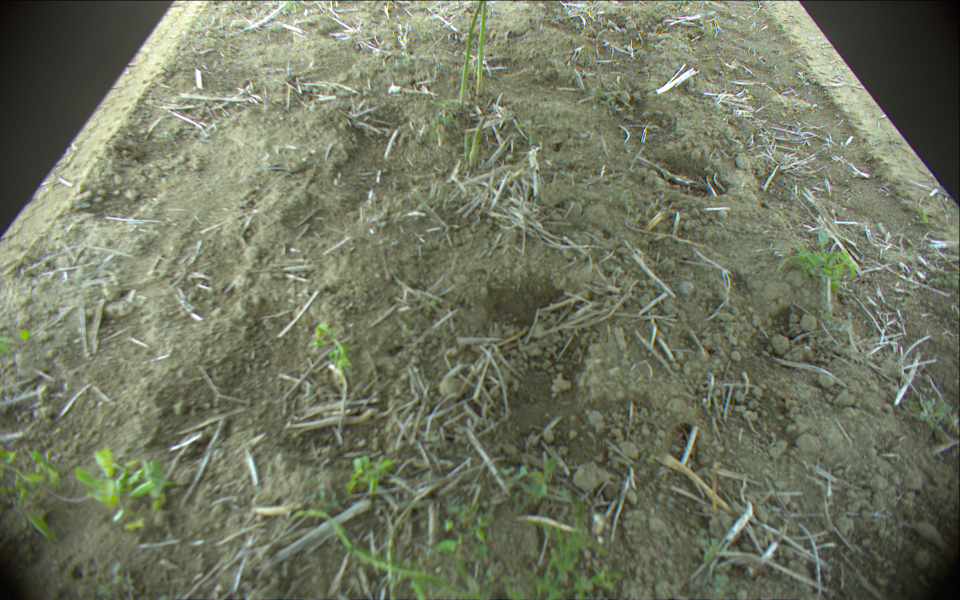aspa: (292, 509, 456, 593), (457, 1, 483, 107), (476, 1, 490, 95), (468, 117, 491, 164), (463, 133, 473, 159)
